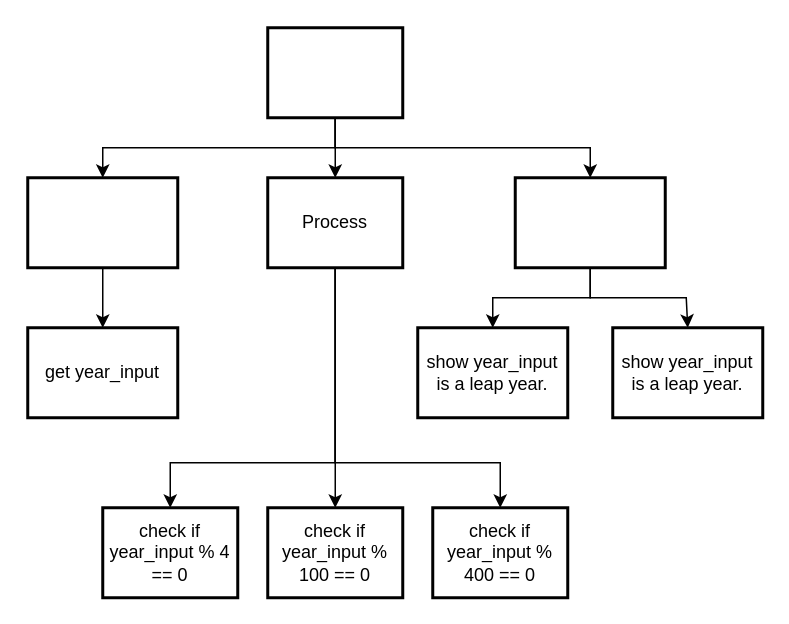
This 789x624 diagram has some shape labels left out. The shapes that lost their labels are listed below. From the top down, each one's centre as x and y in pixels, then its label:
[335,72]: leap_year
[102,222]: Input
[589,222]: Output
